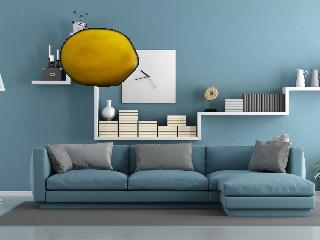lemon: (61, 29, 138, 85)
